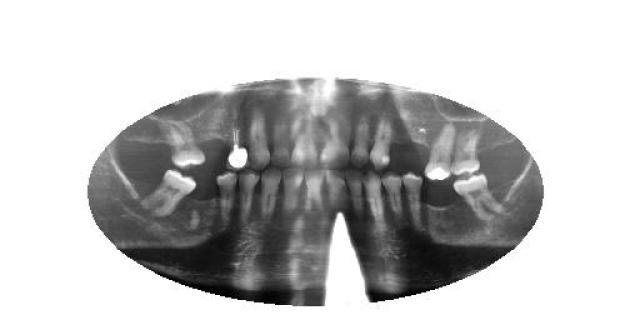Fillings: (425, 120, 454, 180)
Implant: (228, 120, 248, 169)
